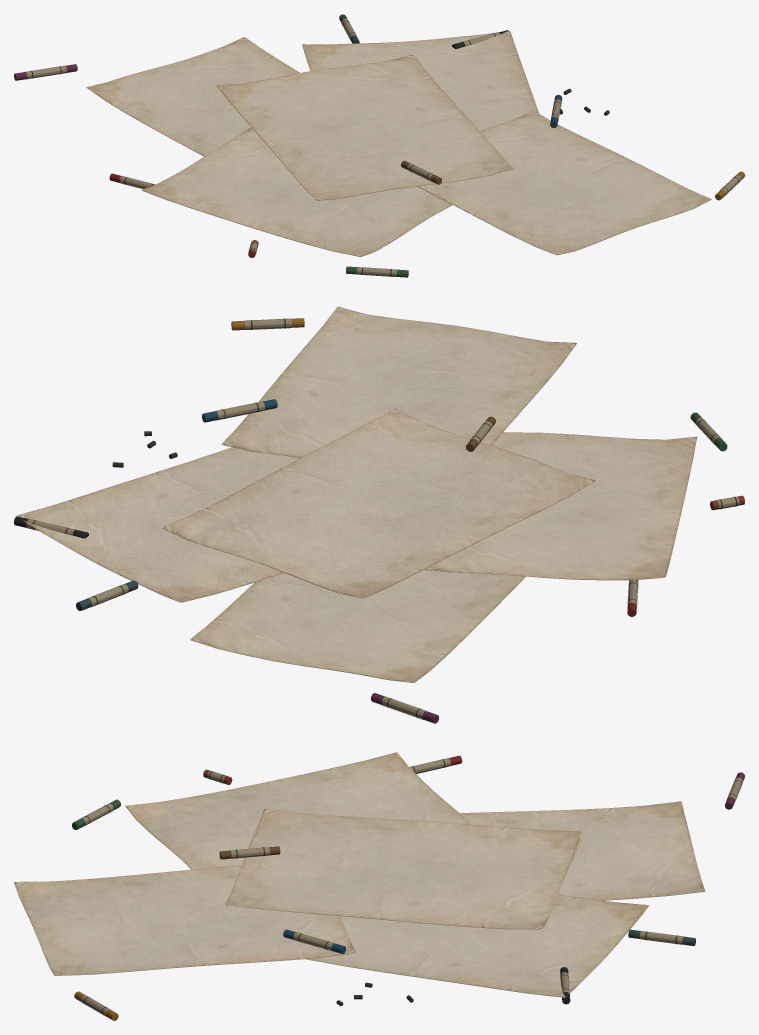
The model's file is scattered-art-supplies.glb.
3 views of the same model, one above another, from view 1: azimuth 30°, elevation 25°; view 2: azimuth 150°, elevation 25°; view 3: azimuth 270°, elevation 25° (orthographic). The views are drawn at different scales.
Visible parts, largest first — view 1: Loose drawing paper 0, Torn crayon sleeve 0; view 2: Loose drawing paper 0, Torn crayon sleeve 0; view 3: Loose drawing paper 0, Torn crayon sleeve 0.
Part boxes in pixels (x1,y1,x2,y2): Loose drawing paper 0: (86,30,711,256); Torn crayon sleeve 0: (25,18,740,276); Loose drawing paper 0: (16,306,697,682); Torn crayon sleeve 0: (26,318,739,719); Loose drawing paper 0: (14,752,705,997); Torn crayon sleeve 0: (81,758,742,1016).
Bounding box in the file's own units: 0.7612 × 0.0462 × 0.9044.
Materials: 12 (1 with a texture image).
